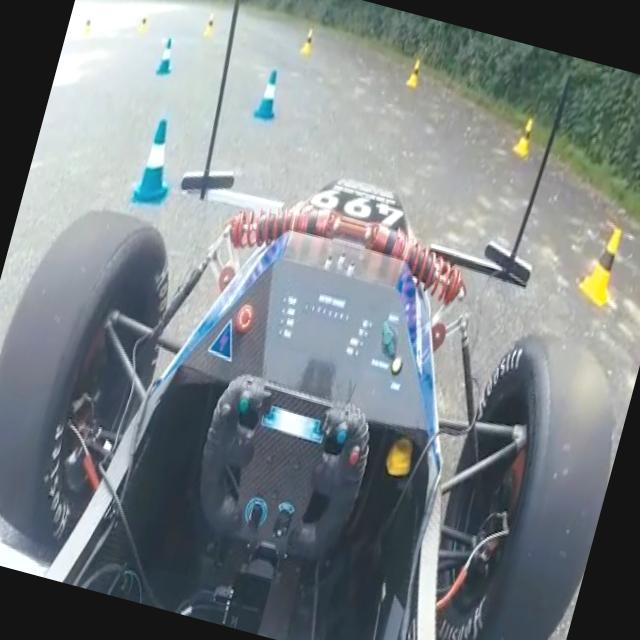blue_cone: (128, 116, 188, 214), (252, 65, 286, 124), (154, 34, 180, 78)
yellow_cone: (576, 221, 628, 308), (512, 117, 537, 157), (405, 58, 423, 88), (299, 28, 316, 56)
